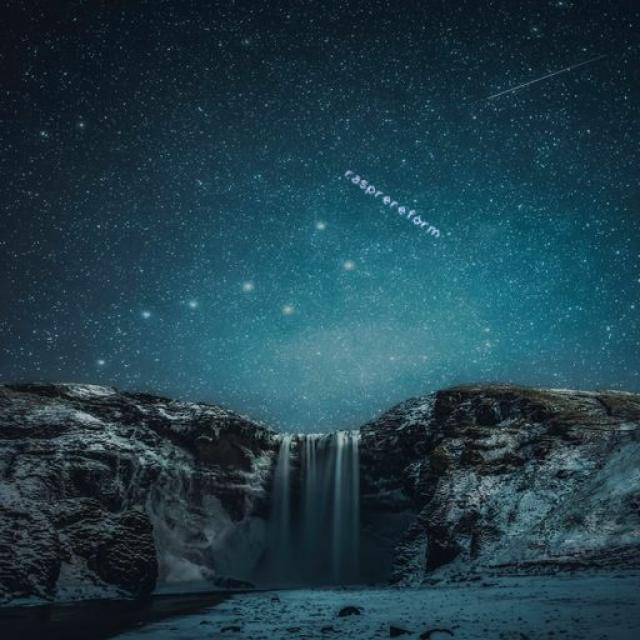watermark: (338, 164, 447, 241)
